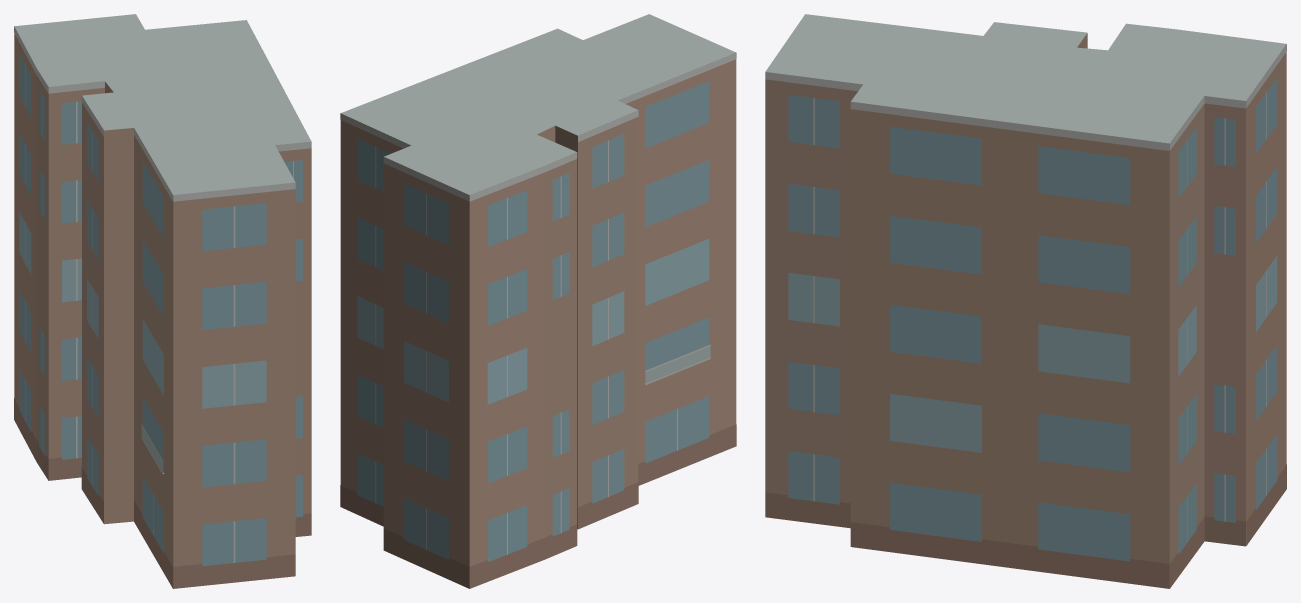
File: survey-upis-32877748.glb
3 renders of one model, left to right at view 1: azimuth 30°, elevation 25°; view 2: azimuth 150°, elevation 25°; view 3: azimuth 270°, elevation 25°, orthographic. The views are drawn at different scales.
Parts seen in each view (by area): view 1: survey-upis-32877748.tmp; view 2: survey-upis-32877748.tmp; view 3: survey-upis-32877748.tmp.
Part boxes in pixels (x1,y1,x2,y2): survey-upis-32877748.tmp: (14,14,311,588); survey-upis-32877748.tmp: (340,14,736,588); survey-upis-32877748.tmp: (765,14,1286,588).
Bounding box in the file's own units: 9.12 × 14.6 × 15.51.
